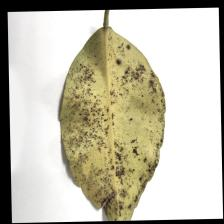canker: (64, 64, 154, 181)
